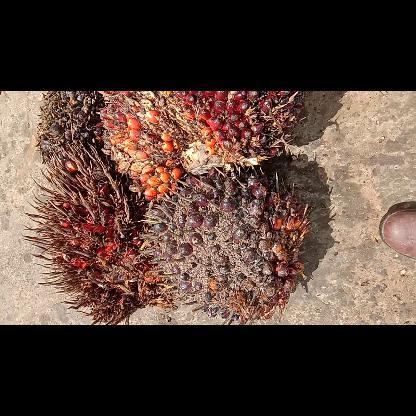Kurang masak: (140, 161, 310, 323)
TBS abnormal: (35, 90, 102, 180)
TBS masak: (96, 91, 306, 199)
Terlalu masak: (21, 142, 177, 324)
